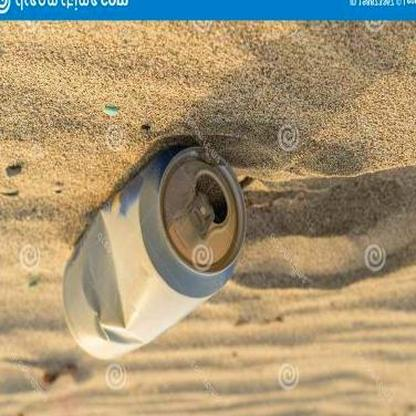can: (60, 146, 249, 357)
